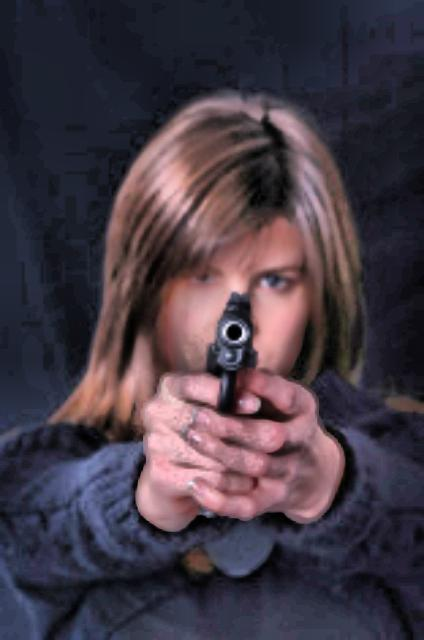pistol: (194, 286, 256, 419)
